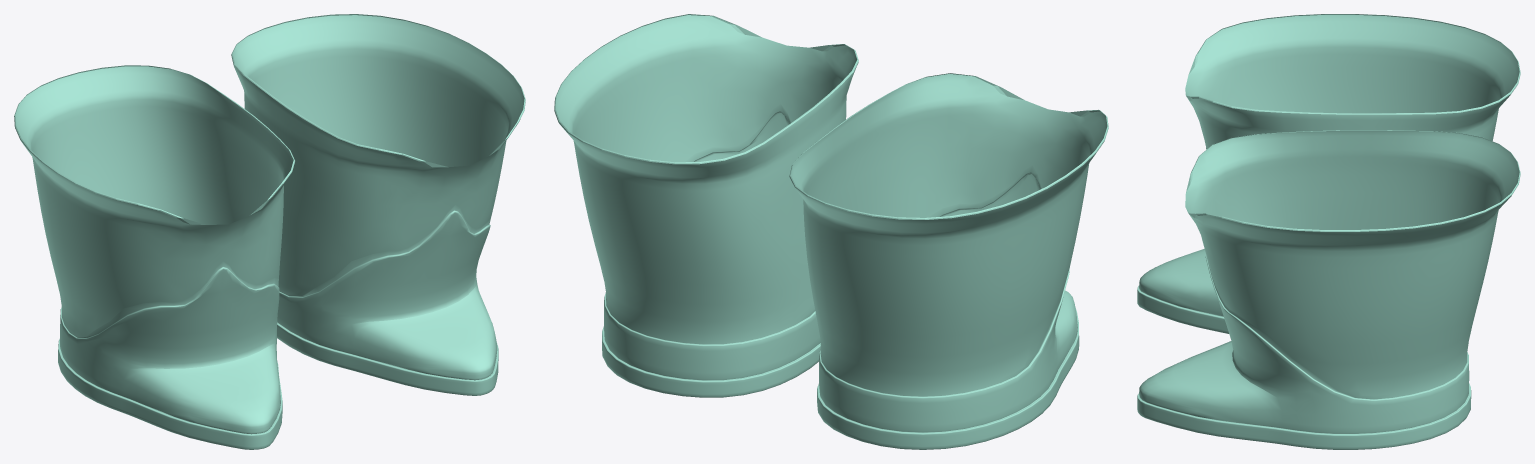
Rendered from Boots09_western.fbx.
3 views of the same model, side by side, from view 1: azimuth 30°, elevation 25°; view 2: azimuth 150°, elevation 25°; view 3: azimuth 270°, elevation 25° (orthographic). The views are drawn at different scales.
Parts seen in each view (by area): view 1: WesternBoots; view 2: WesternBoots; view 3: WesternBoots.
Boxes of the visible parts, bbox=[...] form: WesternBoots: bbox=[14, 14, 525, 449]; WesternBoots: bbox=[554, 14, 1108, 449]; WesternBoots: bbox=[1137, 14, 1520, 449].
Bounding box in the file's own units: 109 × 55.21 × 81.45.
